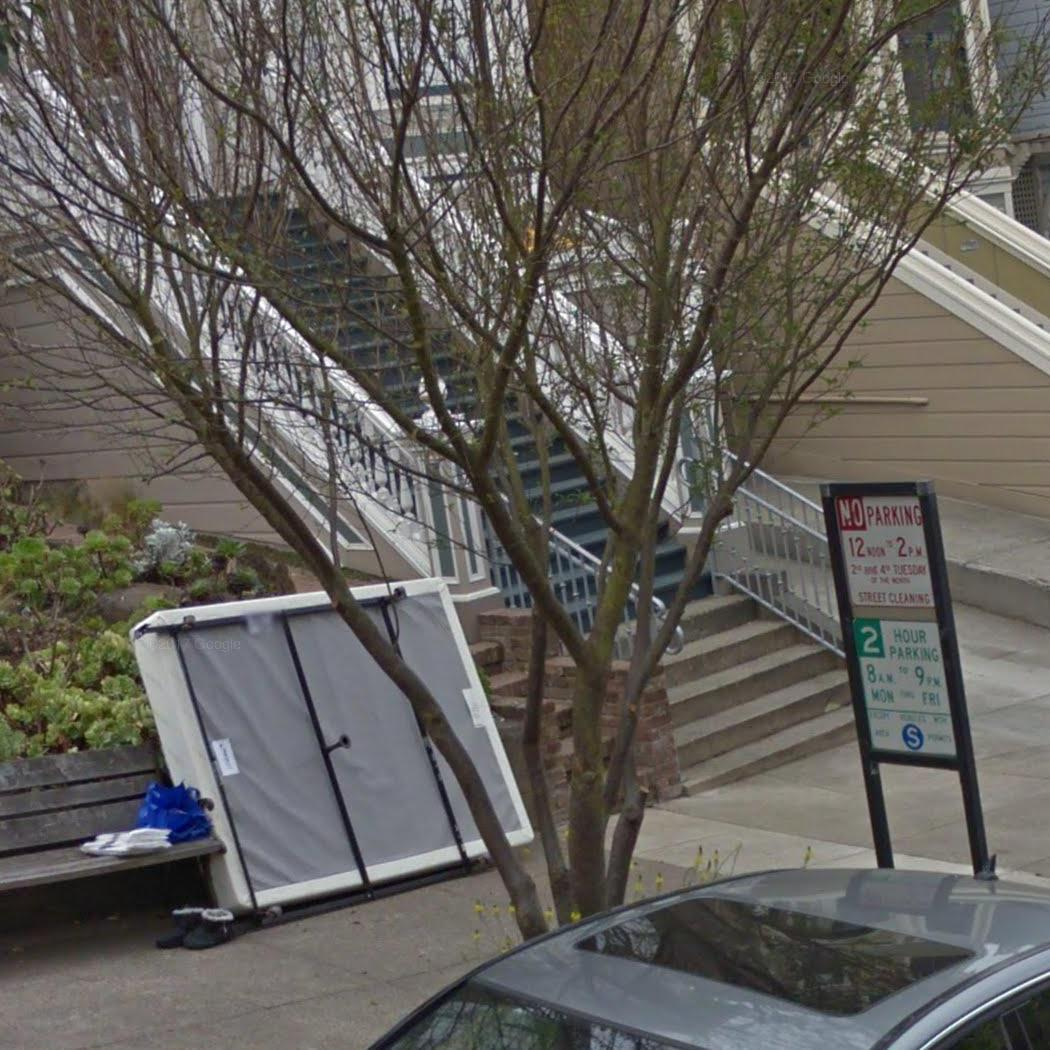2 Hour Parking: (846, 609, 962, 761)
No Parking: (828, 489, 941, 614)
